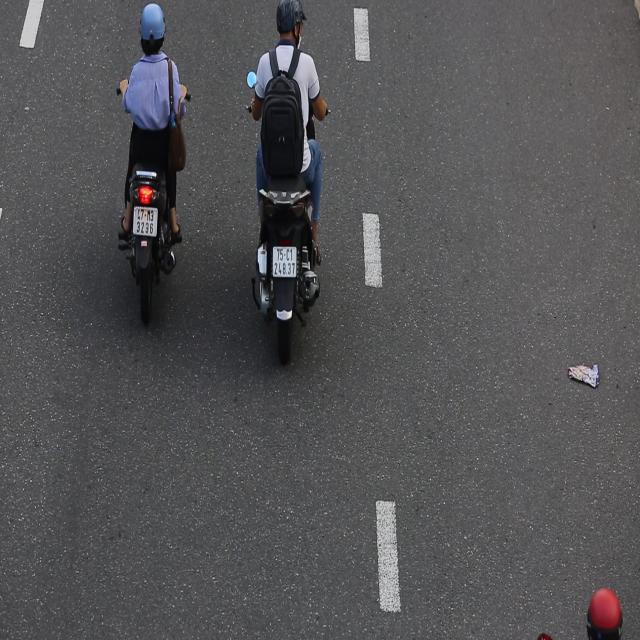motorbike: (244, 6, 332, 373), (115, 0, 193, 332)
